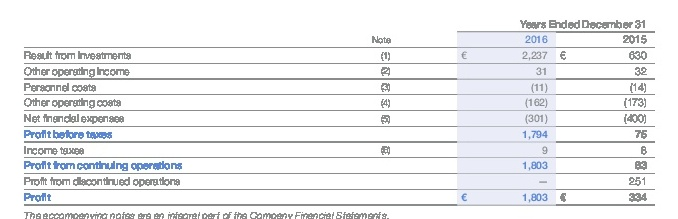table: (0, 0, 678, 219)
